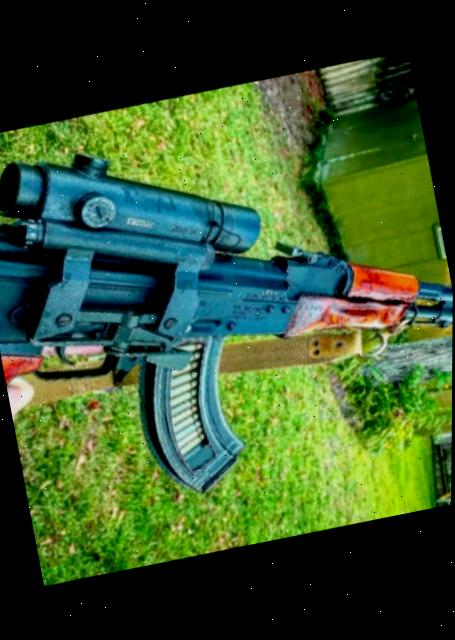rifle: (0, 86, 454, 517)
